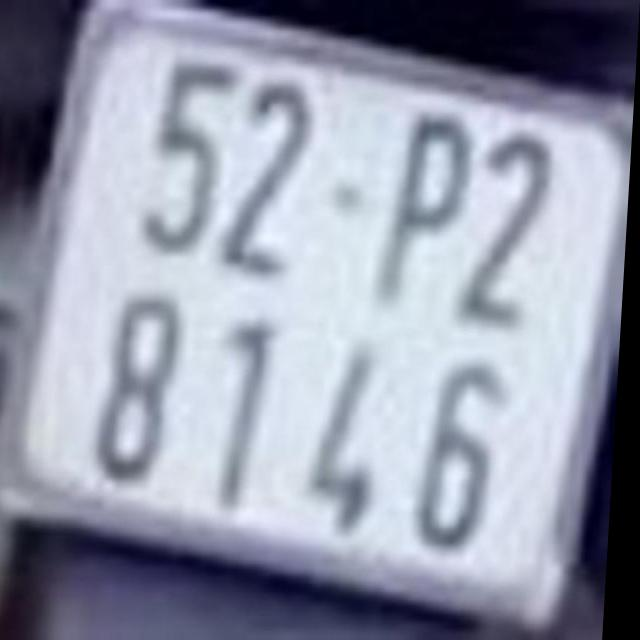1: (213, 313, 280, 506)
2: (474, 124, 557, 333), (230, 84, 318, 276)
4: (314, 350, 393, 540)
5: (149, 54, 239, 260)
6: (419, 364, 518, 550)
8: (105, 295, 185, 488)
P: (378, 114, 476, 314)
